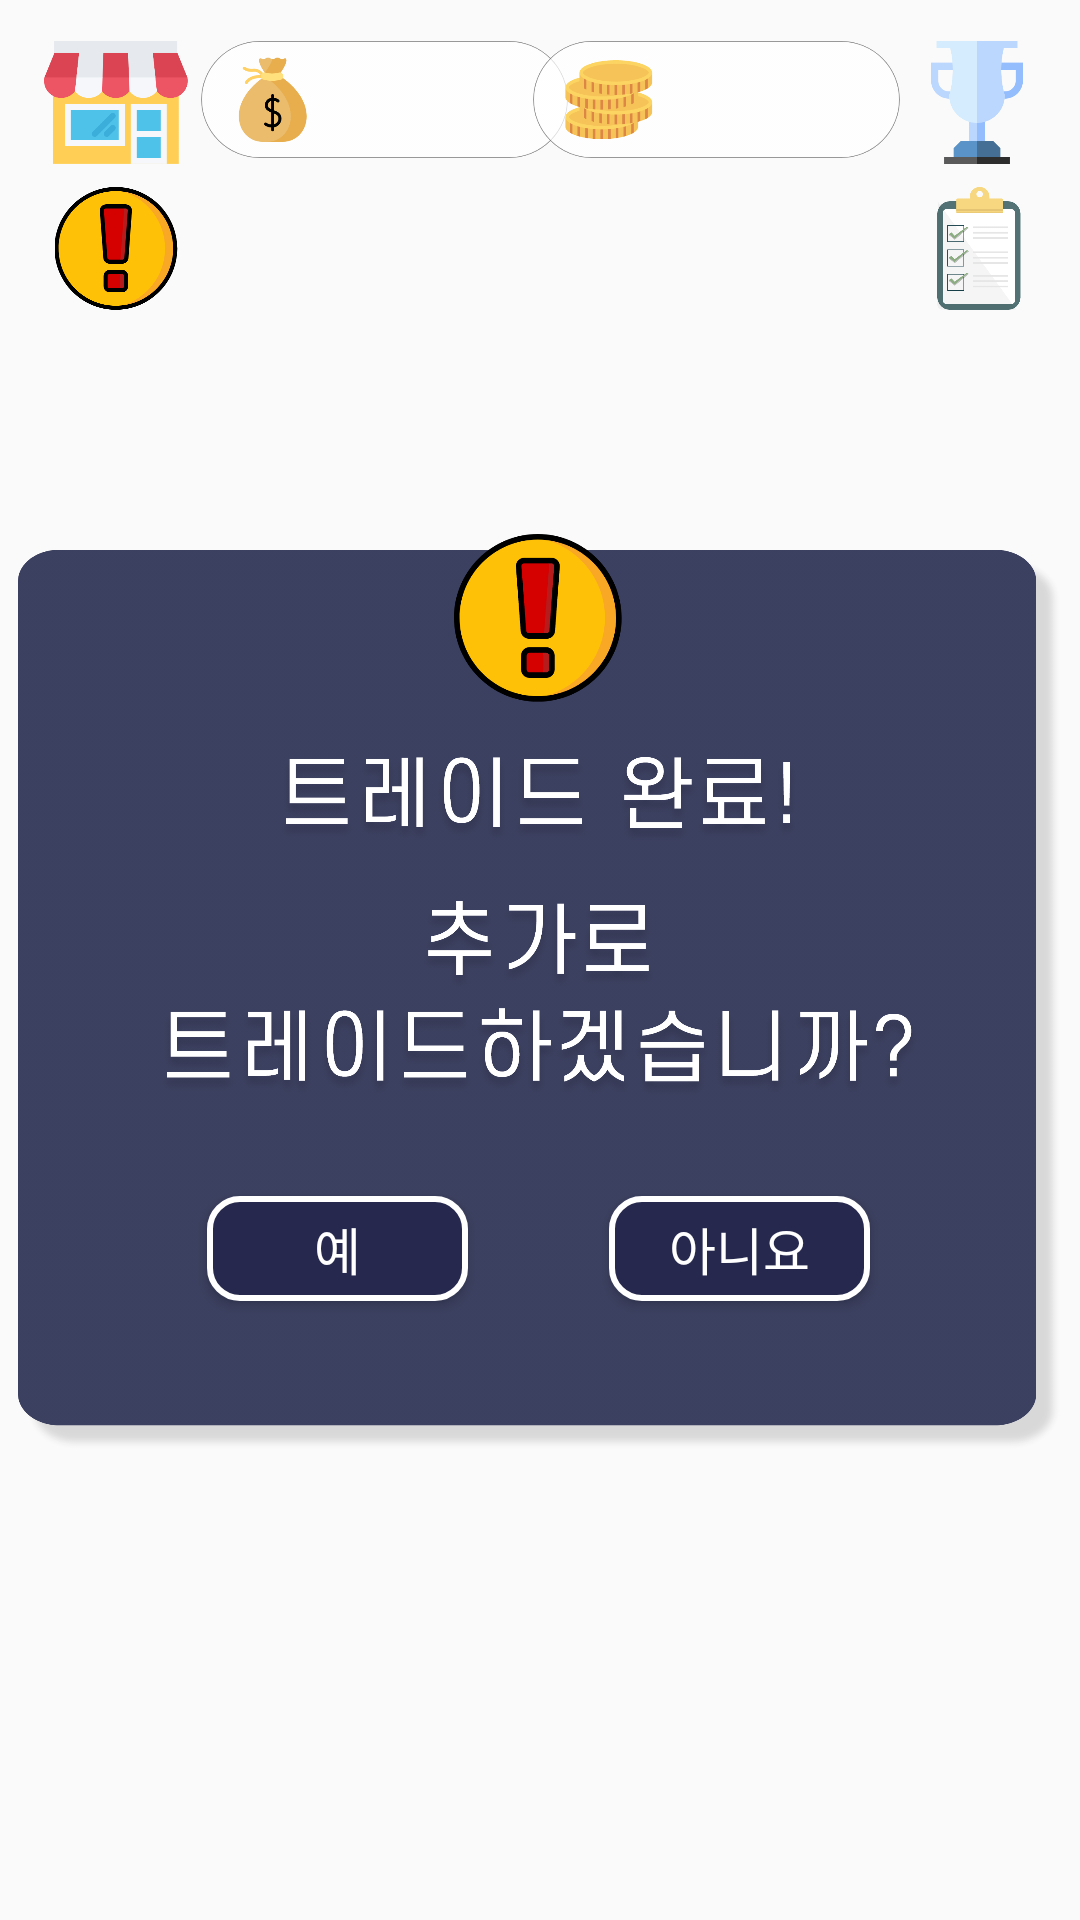

Named icons in this screenshot (1080x1920) and their centers, (x,y):
quest: (116,248), (538,618)
todo list: (979,248)
trophy: (977,102)
